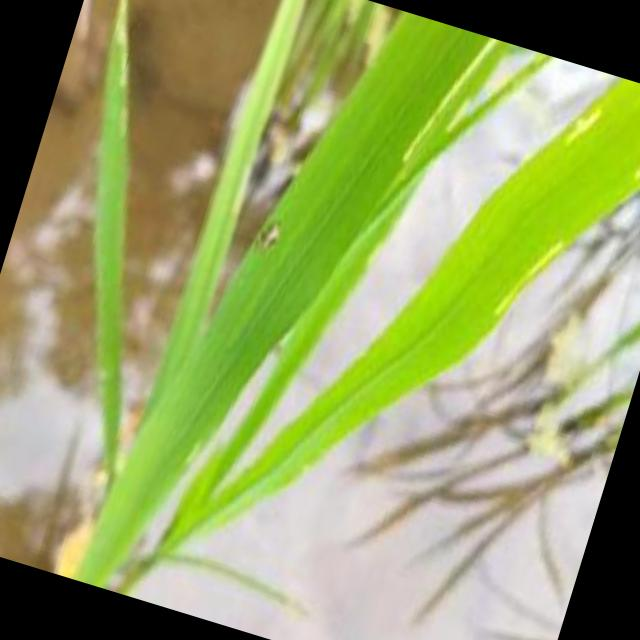rice-bug: (254, 212, 288, 258)
